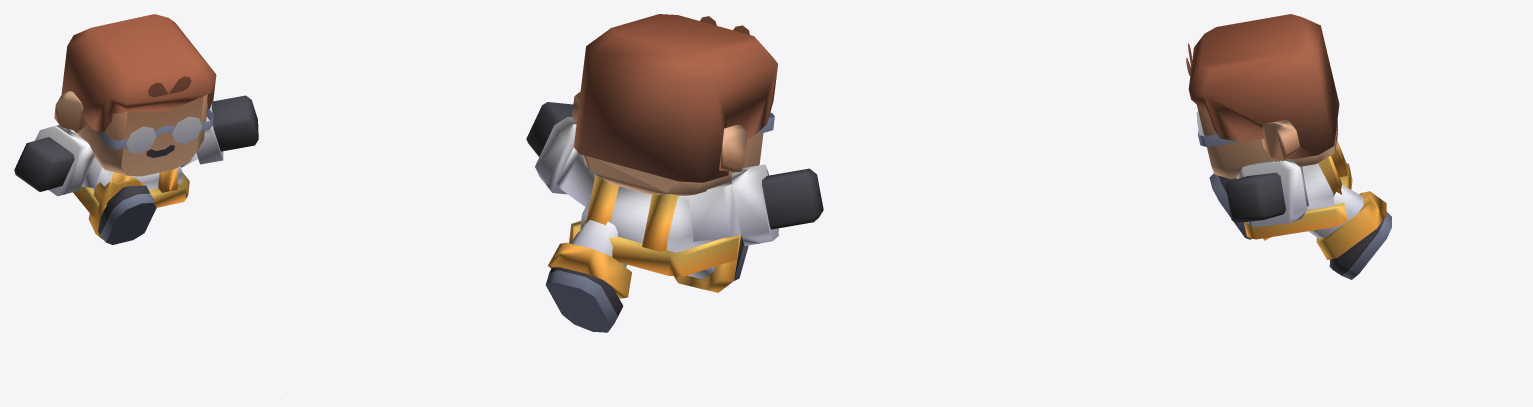
Rendered from builder_jump_0.glb.
3 views of the same model, side by side, from view 1: azimuth 30°, elevation 25°; view 2: azimuth 150°, elevation 25°; view 3: azimuth 270°, elevation 25° (orthographic). The views are drawn at different scales.
Visible parts, largest first — view 1: builder-jump-0; view 2: builder-jump-0; view 3: builder-jump-0.
Part boxes in pixels (x1=…): builder-jump-0: x1=14, y1=14, x2=258, y2=244; builder-jump-0: x1=526, y1=14, x2=823, y2=332; builder-jump-0: x1=1186, y1=14, x2=1391, y2=279.
Size of the model in its own units: 1.2 by 0.7582 by 1.2.
Materials: 1 (1 with a texture image).
